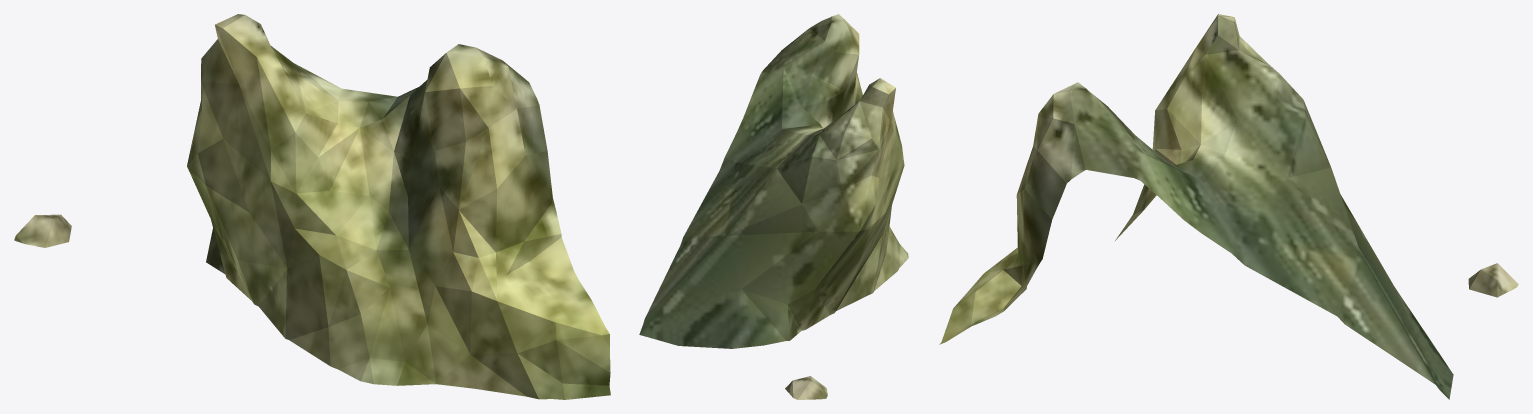
3 renders of one model, left to right at view 1: azimuth 30°, elevation 25°; view 2: azimuth 150°, elevation 25°; view 3: azimuth 270°, elevation 25°, orthographic. The views are drawn at different scales.
Size of the model in its own units: 1.43 by 1.5 by 2.74.
Materials: 1 (1 with a texture image).
